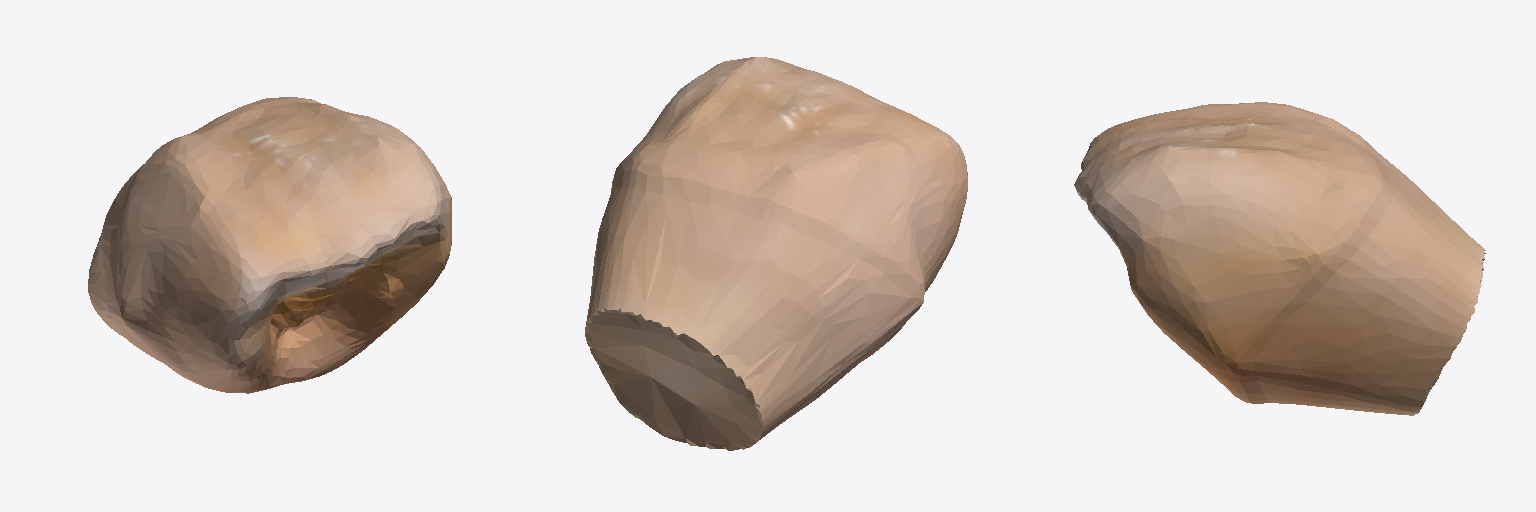
The picture shows the model from 3 angles: view 1: azimuth 30°, elevation 25°; view 2: azimuth 150°, elevation 25°; view 3: azimuth 270°, elevation 25°; orthographic projection.
Visible parts, largest first — view 1: ZBrush_defualt_group; view 2: ZBrush_defualt_group; view 3: ZBrush_defualt_group.
Boxes of the visible parts, x1,y1,x2,y2 form: ZBrush_defualt_group: [88, 97, 451, 393]; ZBrush_defualt_group: [585, 57, 967, 450]; ZBrush_defualt_group: [1074, 102, 1485, 415].
Size of the model in its own units: 8.19 by 7.69 by 10.09.
1 materials, 1 textured.